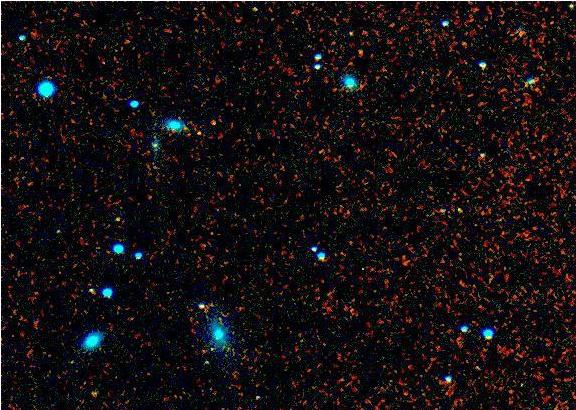star: (334, 20, 364, 50)
